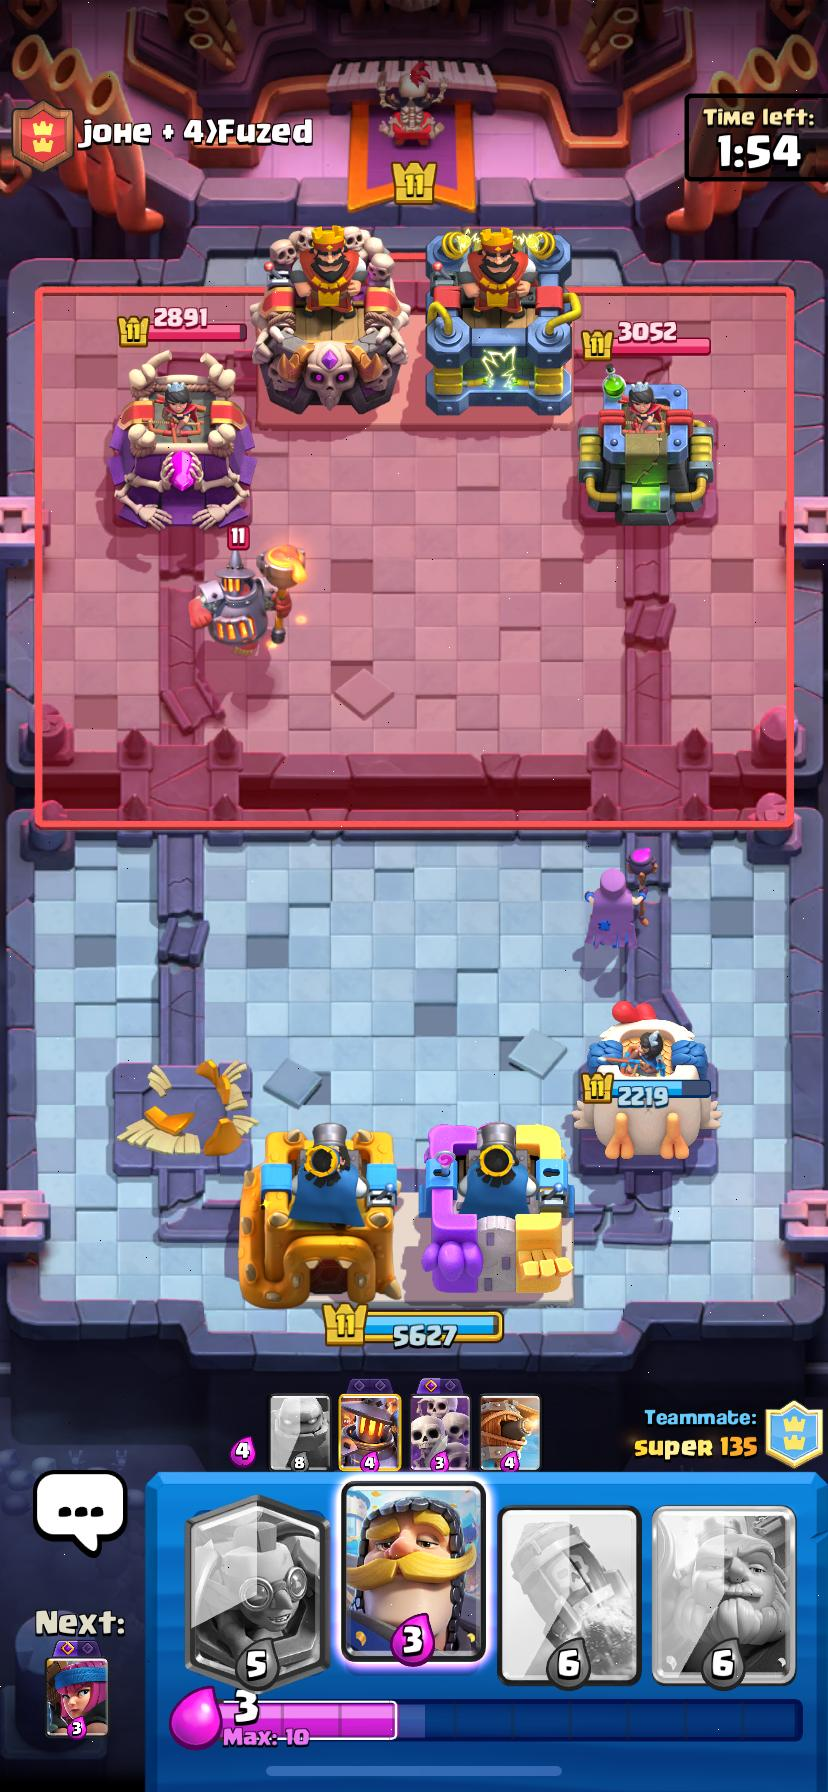EFurnace: (192, 544, 305, 651)
EKingTower: (250, 227, 411, 414), (425, 227, 580, 416)
EnemyPrincessTower: (108, 352, 253, 529), (578, 368, 712, 525)
OMotherWitch: (586, 869, 642, 949)
OwnKingTower: (240, 1123, 403, 1307), (421, 1122, 573, 1299)
OwnPrincessTower: (576, 1002, 719, 1160)
TowerDown: (113, 1059, 257, 1174)
